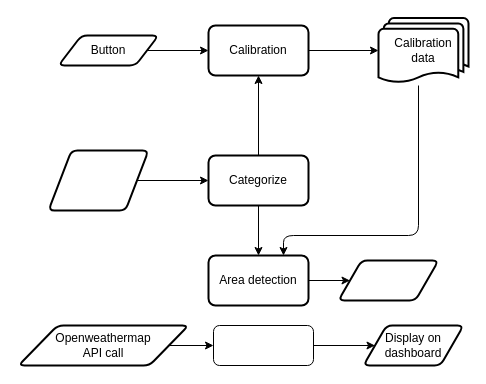
Some shapes in this 486 by 384 pixel diagram are drawn without their labels. Here are the shapes that lost their labels. From the top down, the centre of each, then its label:
(x=98, y=180): MQTT in topic fromDEV
(x=388, y=280): MQTT out
(x=263, y=345): Process data
